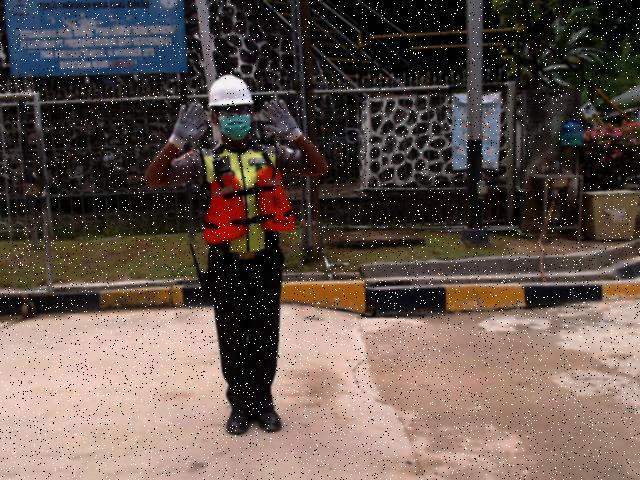glasses: (219, 107, 251, 115)
gloves: (167, 101, 209, 154), (258, 98, 304, 145)
helmet: (207, 73, 254, 107)
mask: (218, 115, 251, 141)
safety-shoes: (224, 403, 255, 438), (255, 405, 284, 437)
vest: (200, 165, 298, 246)
